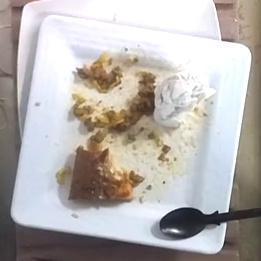beef: (72, 53, 156, 131)
pizza_crust: (69, 146, 144, 201)
